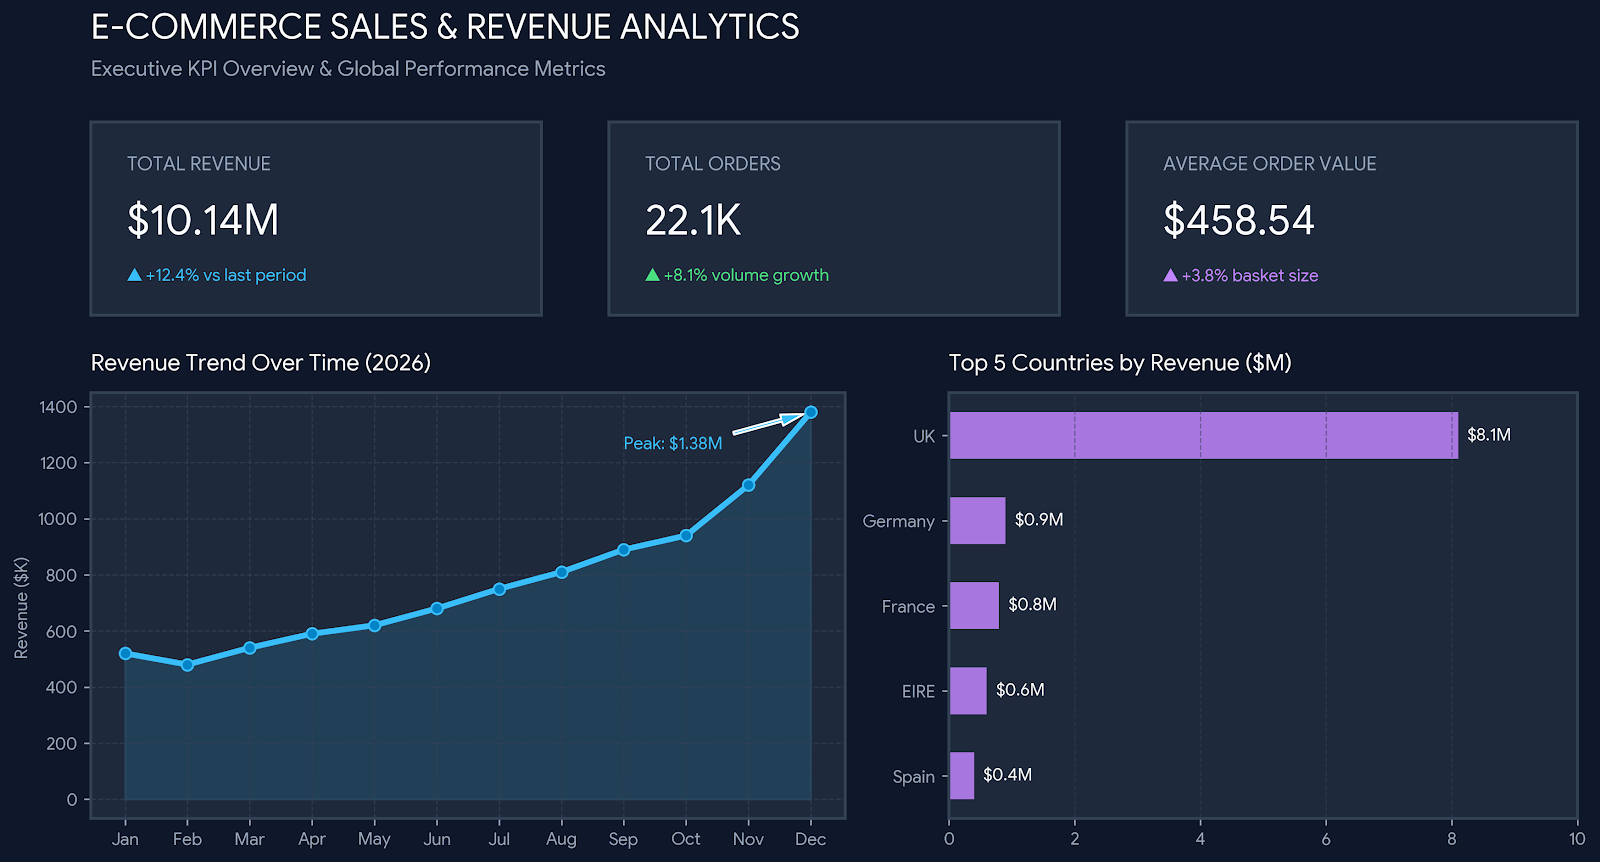

The page's visual inventory and layout, read from the dashboard file:
{"tool":"powerbi","page":{"name":"Page 1","canvas":[1920,1080],"ordinal":0},"visuals":[{"type":"cardVisual","fields":{"Data":["_Measures.Total Revenue"]},"box":[9.5,0,217.1,133.6],"z":0},{"type":"cardVisual","fields":{"Data":["_Measures.AOV"]},"box":[849.4,0,217,150],"z":2},{"type":"cardVisual","fields":{"Data":["_Measures.Total Orders"]},"box":[391.3,0,217,150],"z":3},{"type":"lineChart","fields":{"Category":["Sales.Invoice"],"Y":["_Measures.Total Revenue"]},"box":[11.3,225.4,1059.6,315.6],"z":4},{"type":"clusteredBarChart","fields":{"Category":["Sales.Country"],"Y":["_Measures.Total Revenue"]},"box":[11.3,552.3,1110.3,360.7],"z":5}]}

Visuals, with their boxes on the page's 1920x1080 design canvas (x1, y1, x2, y2). These are canvas units, not pixel positions in the 1600x862 screenshot, which may show the page scaled, cropped or inside an application window:
cardVisual - _Measures.Total Revenue: (10,0,227,134)
cardVisual - _Measures.AOV: (849,0,1066,150)
cardVisual - _Measures.Total Orders: (391,0,608,150)
lineChart - Sales.Invoice x _Measures.Total Revenue: (11,225,1071,541)
clusteredBarChart - Sales.Country x _Measures.Total Revenue: (11,552,1122,913)
